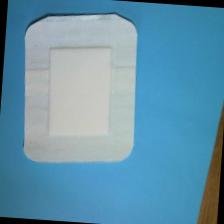Dressing: (14, 4, 147, 174)
